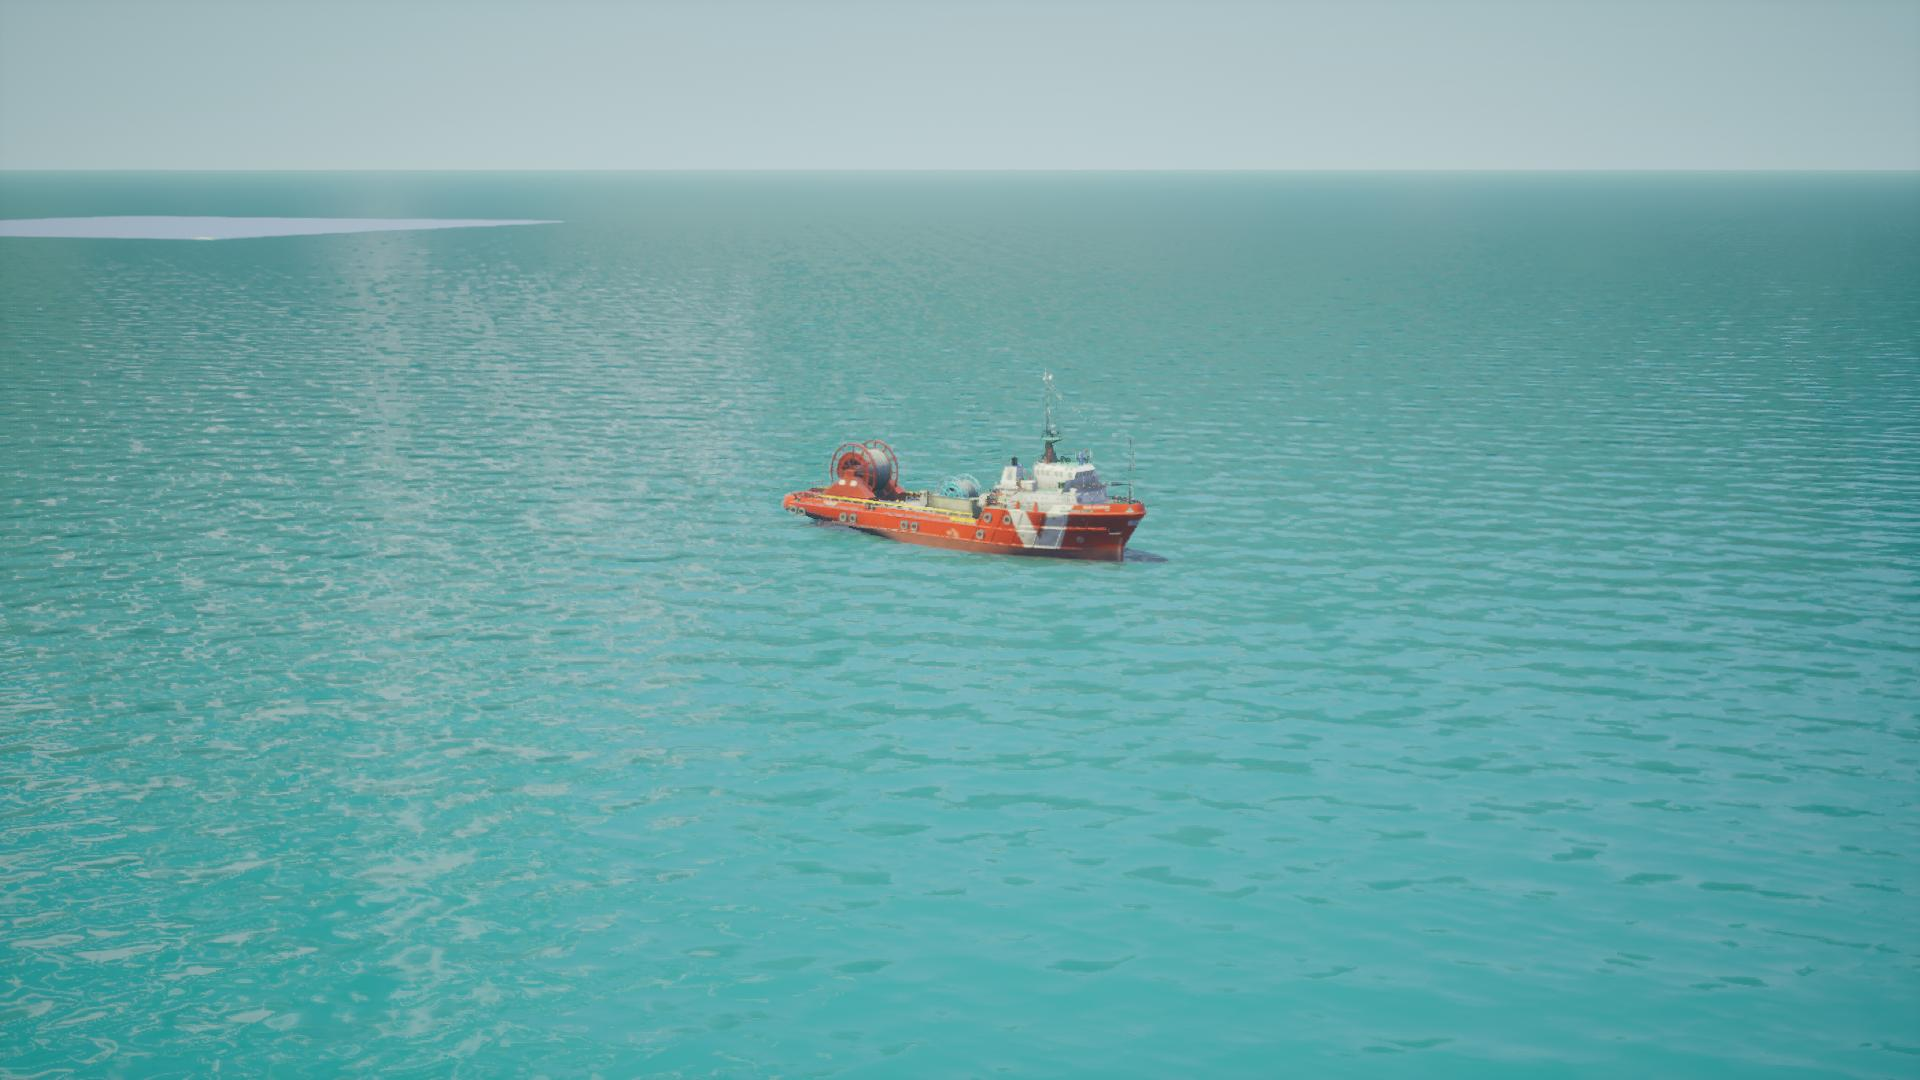Tug Boat: (777, 375, 1158, 574)
